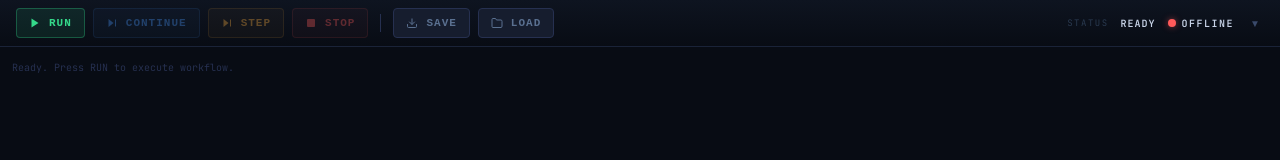
it: ConsolePanel a11y › labels the collapse toggle with aria-expanded state
Click the button named "collapse console log area" at (1255, 23), box left=1246, top=14, right=1264, bottom=32
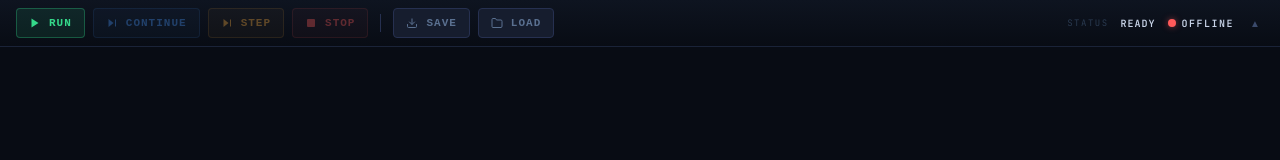
Expected: the button named "expand console log area" is collapsed, left=1246, top=14, right=1264, bottom=32
